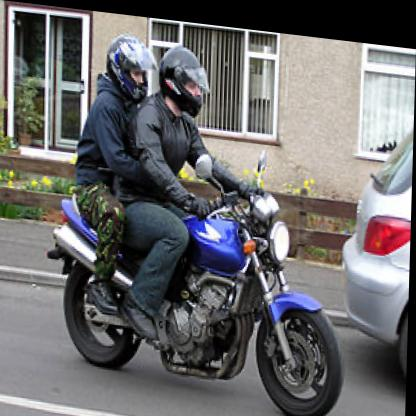With Helmet: (152, 29, 213, 115), (102, 22, 151, 96)
